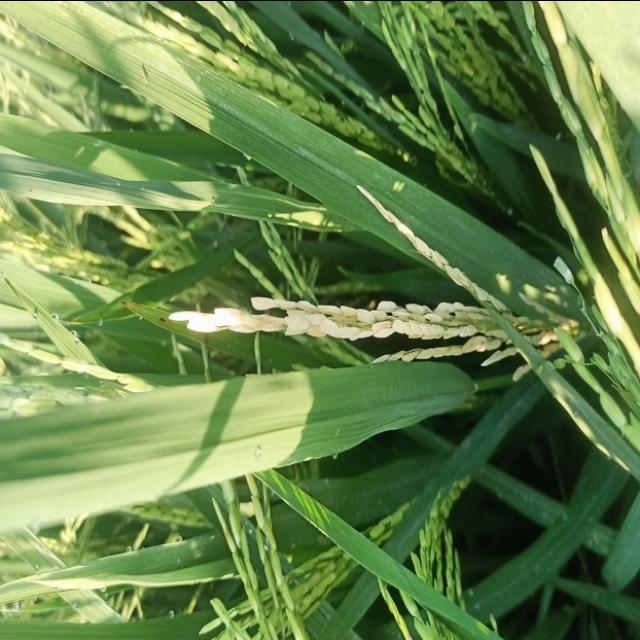brown spot: (154, 312, 168, 328), (116, 298, 134, 308)
